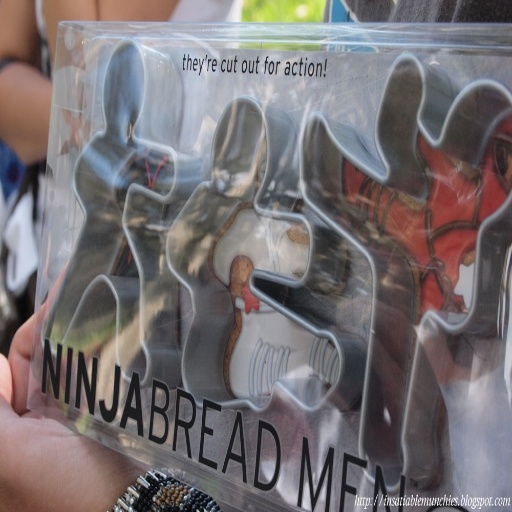hand: (0, 257, 156, 511)
